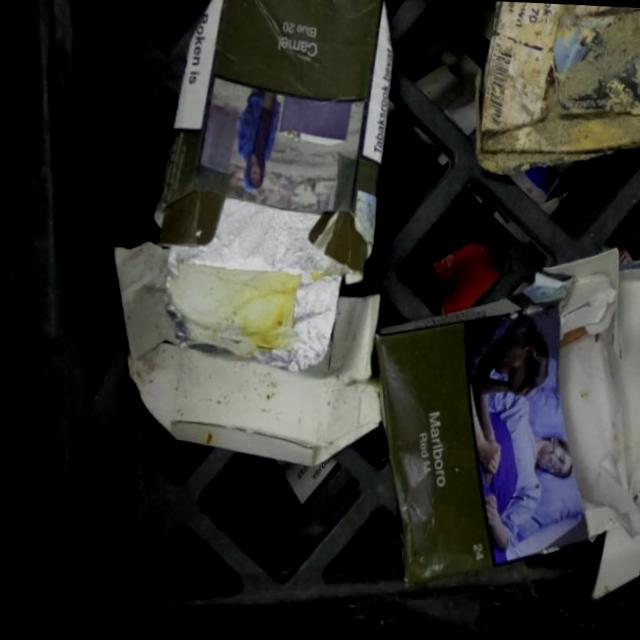Paper: (90, 0, 406, 490), (356, 231, 640, 612), (465, 0, 640, 192)
